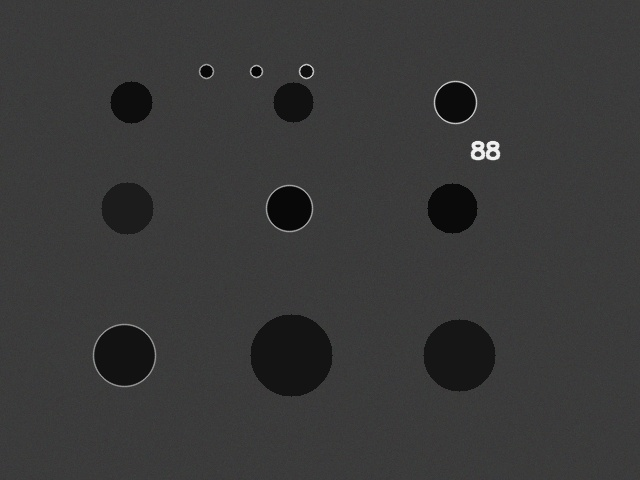hole: (250, 314, 332, 396), (423, 319, 495, 391), (93, 324, 155, 386), (101, 182, 153, 234), (427, 183, 477, 233), (266, 185, 312, 231), (110, 81, 152, 123), (434, 81, 476, 123), (273, 82, 313, 122), (199, 64, 213, 78), (299, 64, 313, 78), (250, 65, 262, 77)
